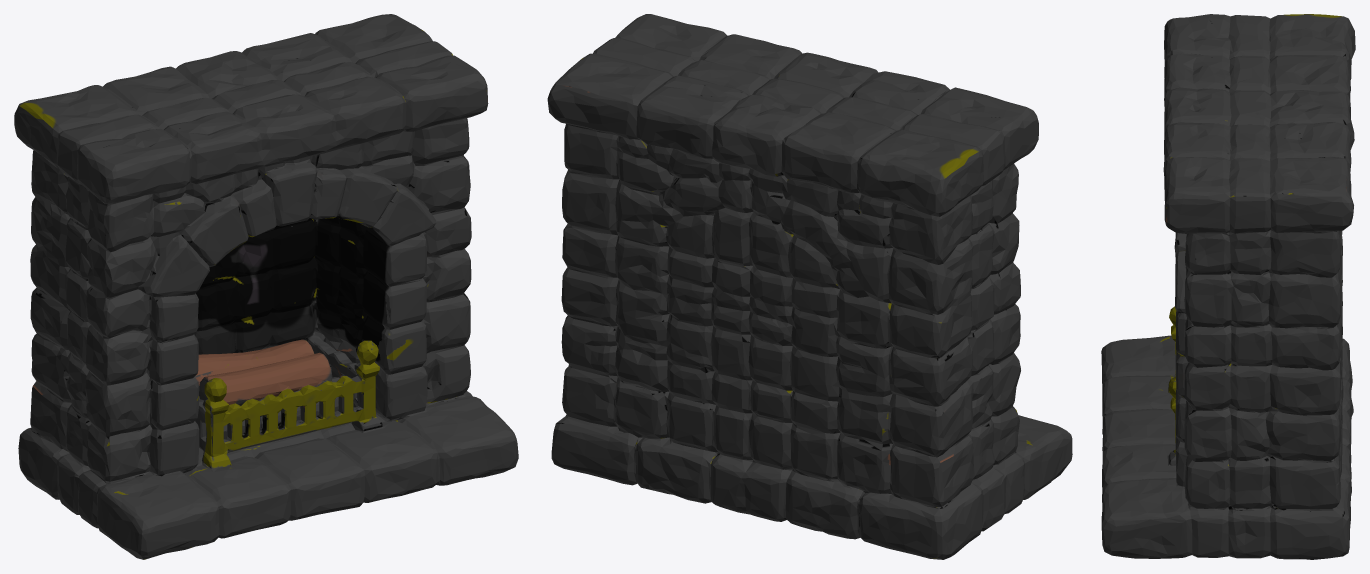
File: lareira.glb
3 views of the same model, side by side, from view 1: azimuth 30°, elevation 25°; view 2: azimuth 150°, elevation 25°; view 3: azimuth 270°, elevation 25° (orthographic). The views are drawn at different scales.
Visible parts, largest first — view 1: tmp5grbbyq1.ply; view 2: tmp5grbbyq1.ply; view 3: tmp5grbbyq1.ply.
Part boxes in pixels (x1=…): tmp5grbbyq1.ply: x1=14, y1=14, x2=518, y2=559; tmp5grbbyq1.ply: x1=547, y1=14, x2=1072, y2=559; tmp5grbbyq1.ply: x1=1101, y1=14, x2=1355, y2=559.
Size of the model in its own units: 1.96 by 1.85 by 1.15.
Materials: 1 (1 with a texture image).
